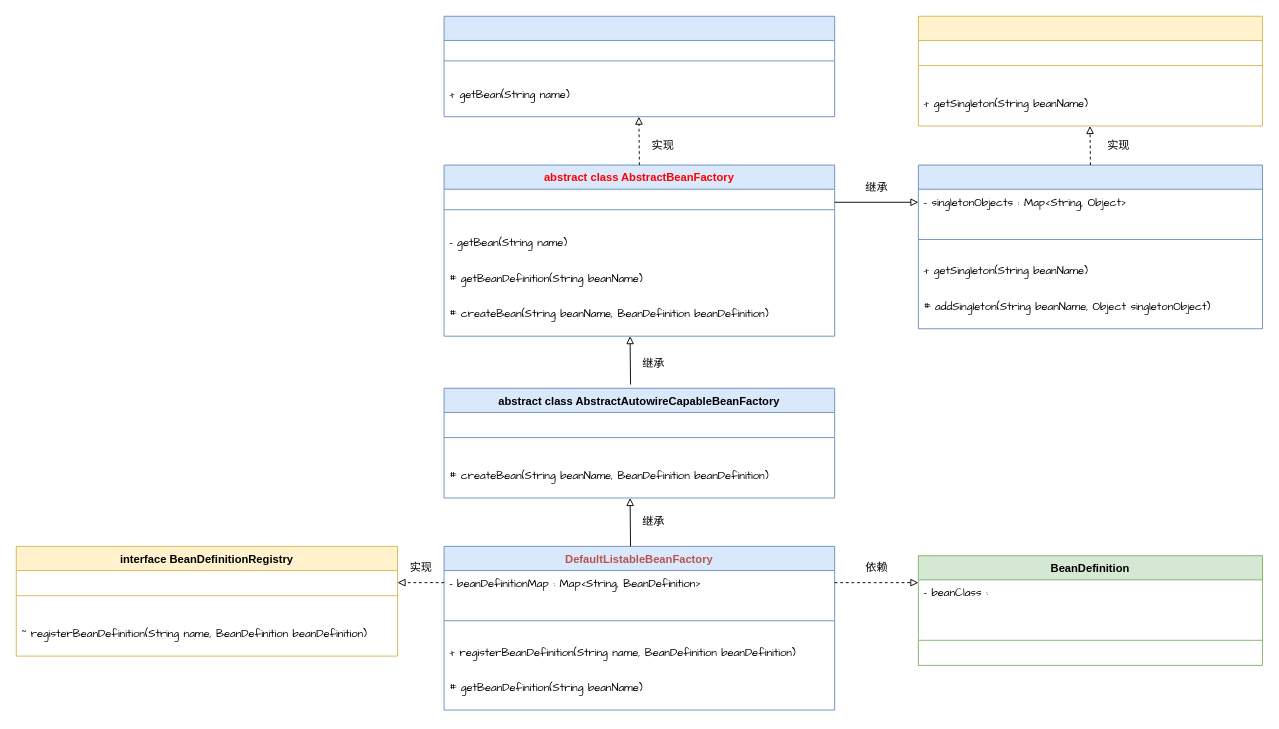
Some shapes in this 1279 by 729 pixel diagram are drawn without their labels. The shapes that lost their labels are listed below. From the top down, each one's box as (x1, y1, x2, y2) in pixels, then its label:
(443, 15, 835, 117): interface BeanFactory
(917, 15, 1262, 126): interface SingletonBeanRegistry
(917, 164, 1262, 329): DefaultSingletonBeanRegistry
